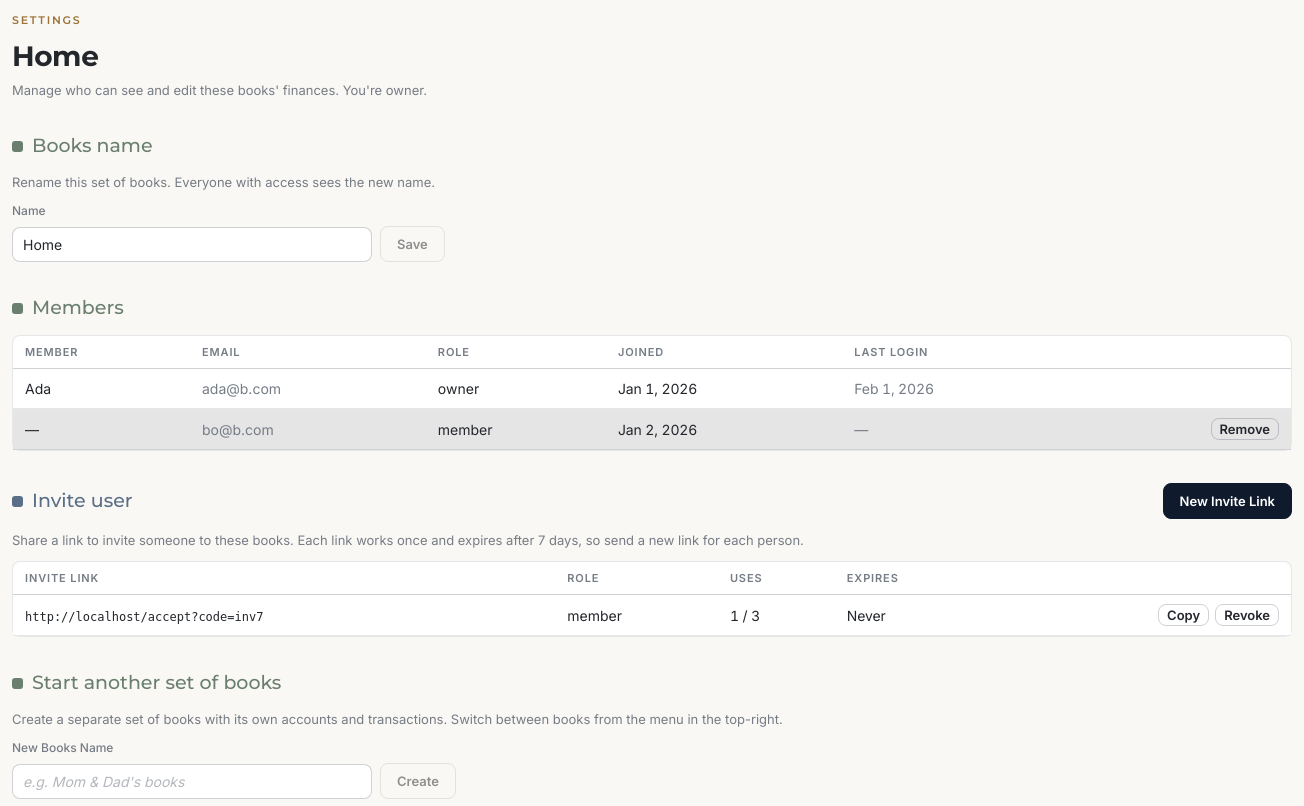
Test case: Book page › surfaces a rename error
Expected: the text "ada@b.com" is shown, [190, 368, 426, 408]
In the field with placeholder "e.g. Home Books": (192, 244) [12, 226, 372, 262], type "X"
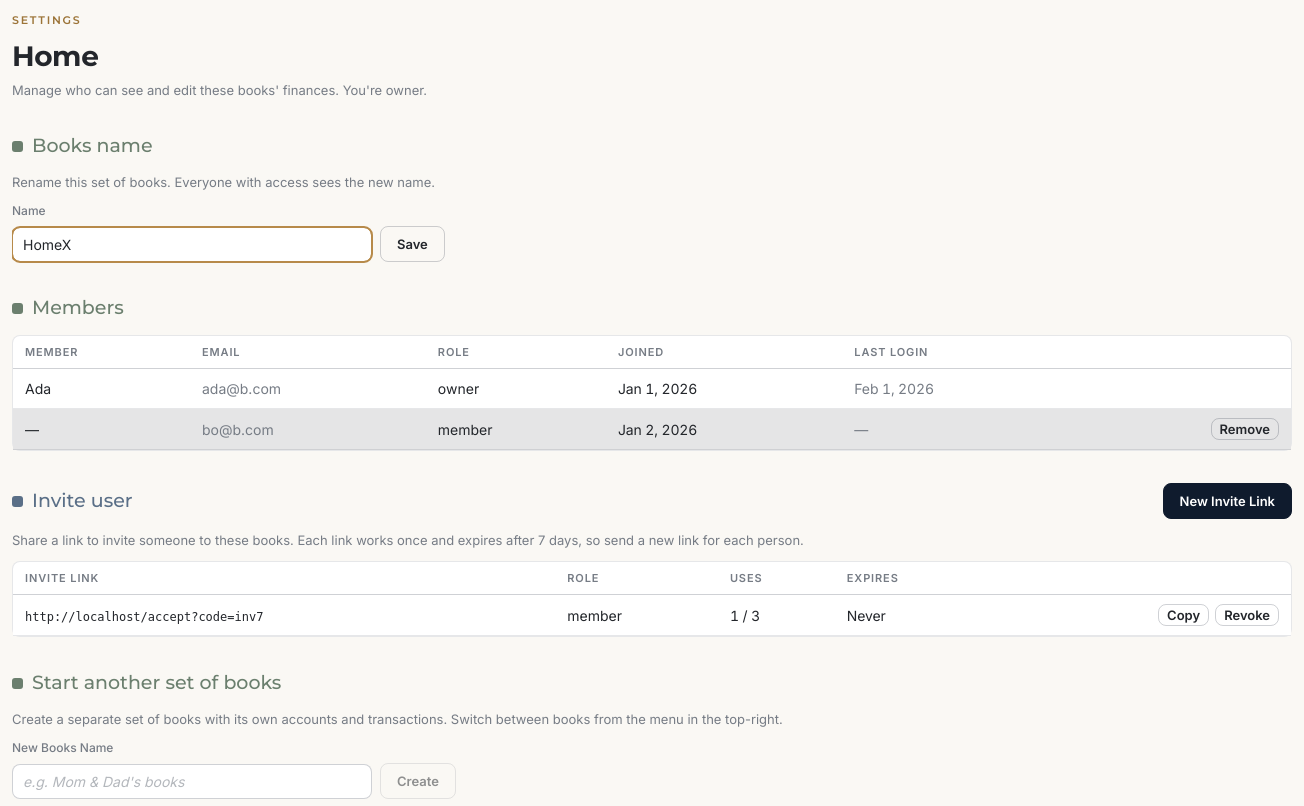
Click the button "Save": (412, 244) [380, 226, 445, 262]
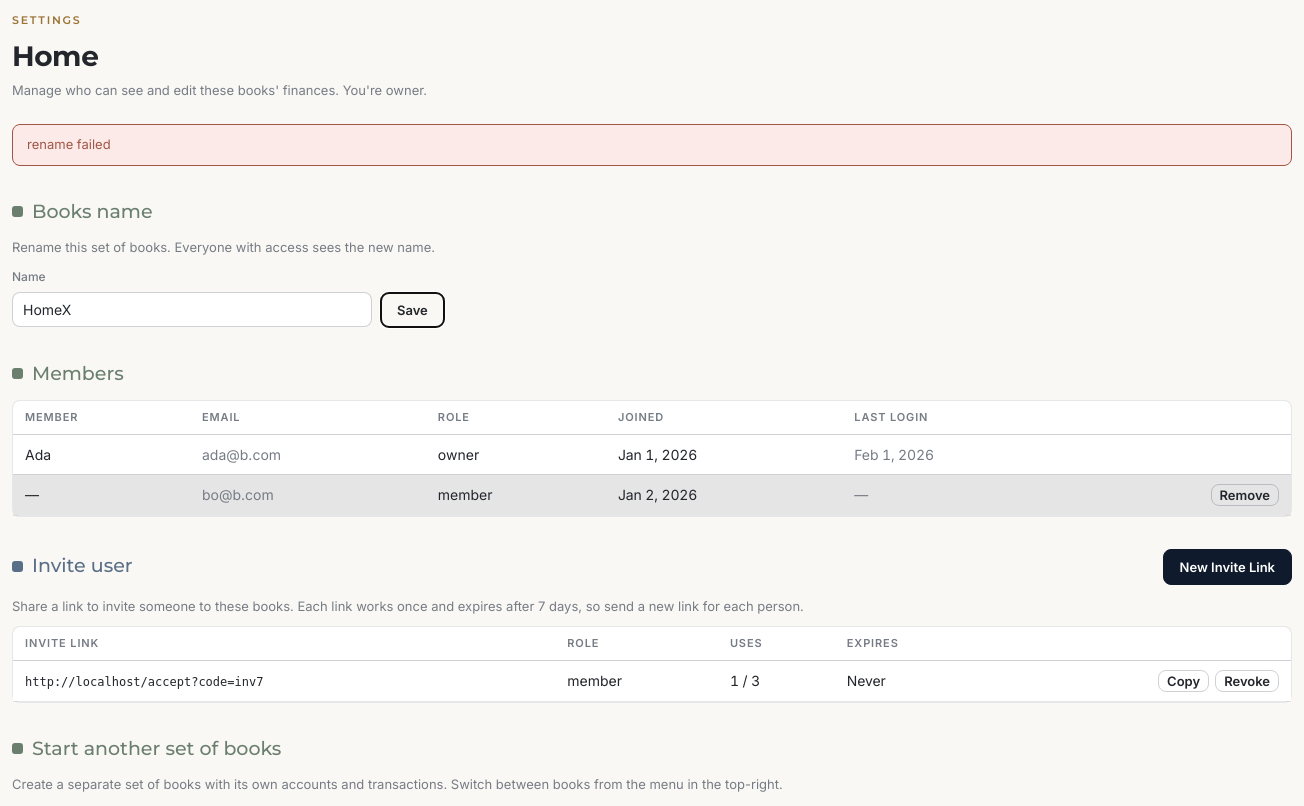
Expected: the text "rename failed" is shown, [12, 124, 1292, 166]
